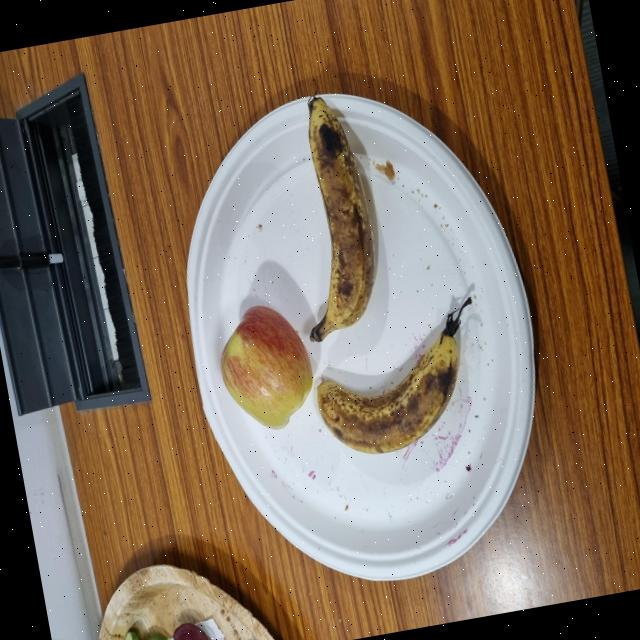apple: (171, 304, 270, 427)
banana: (162, 428, 283, 624), (243, 424, 431, 524)
